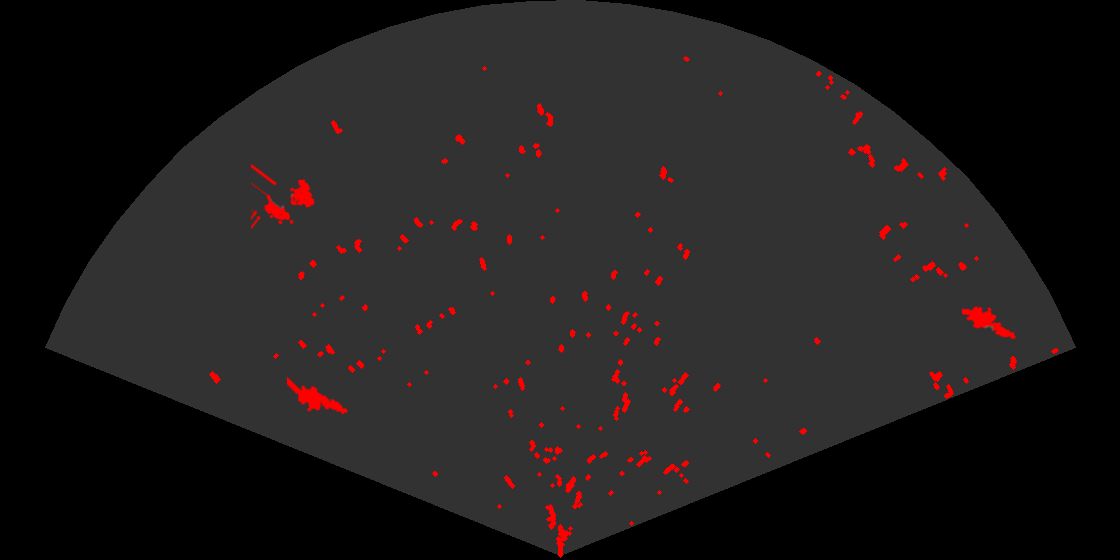cage: (251, 162, 316, 231)
frogman: (287, 375, 349, 416), (962, 304, 1018, 341)
